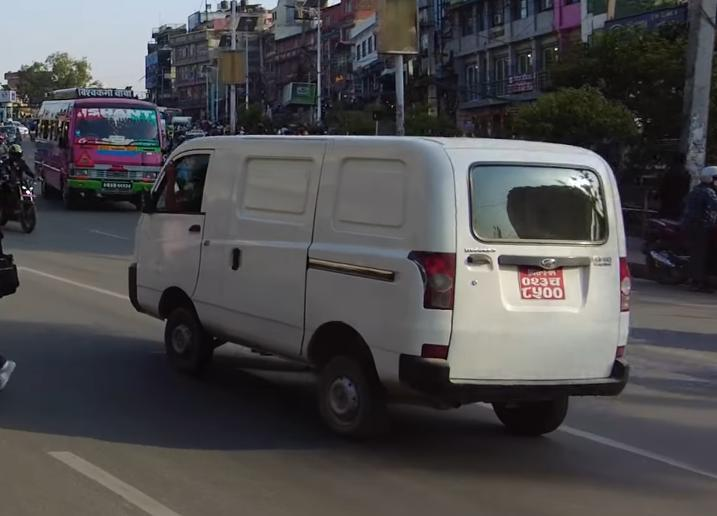bike: (0, 172, 43, 235)
bus: (35, 82, 165, 208)
van: (122, 125, 645, 440)
